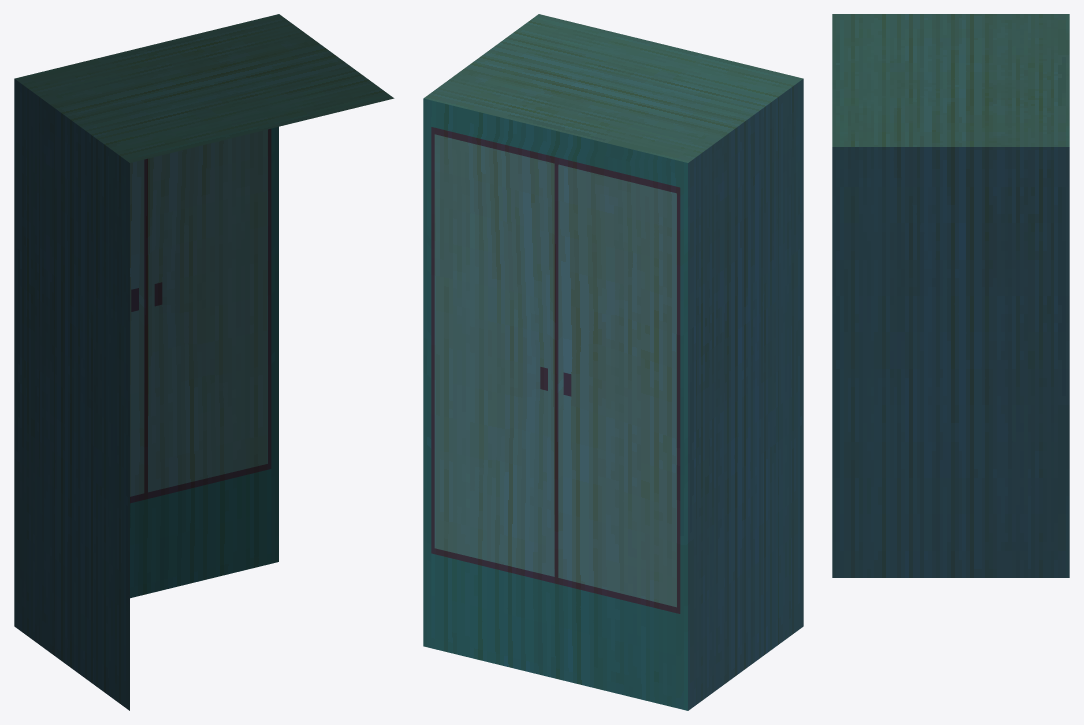
3 renders of one model, left to right at view 1: azimuth 30°, elevation 25°; view 2: azimuth 150°, elevation 25°; view 3: azimuth 270°, elevation 25°, orthographic. The views are drawn at different scales.
Parts seen in each view (by area): view 1: Joint_0_Object_0; view 2: Joint_0_Object_0; view 3: Joint_0_Object_0.
Part boxes in pixels (x1=…): Joint_0_Object_0: x1=14, y1=14, x2=394, y2=710; Joint_0_Object_0: x1=423, y1=14, x2=803, y2=710; Joint_0_Object_0: x1=832, y1=14, x2=1069, y2=577.
Bounding box in the file's own units: 2111 × 4174 × 1594.
1 material, 1 textured.
